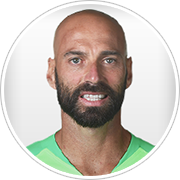smile: (79, 91, 109, 105)
